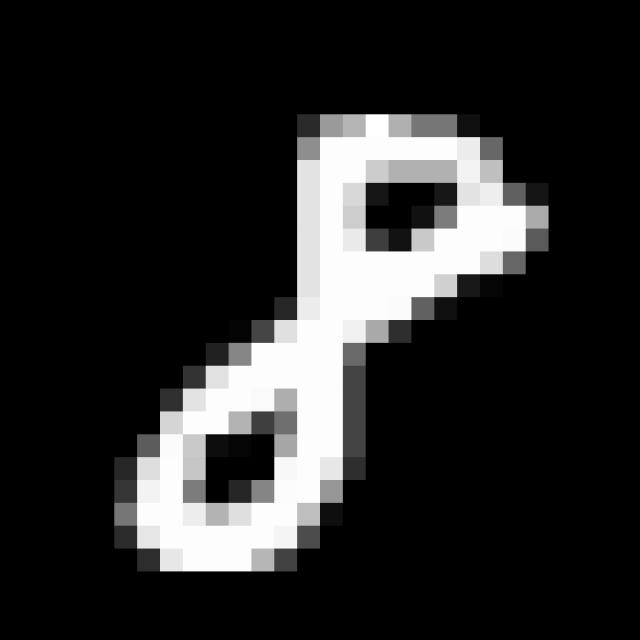eight -8-: (121, 101, 556, 584)
